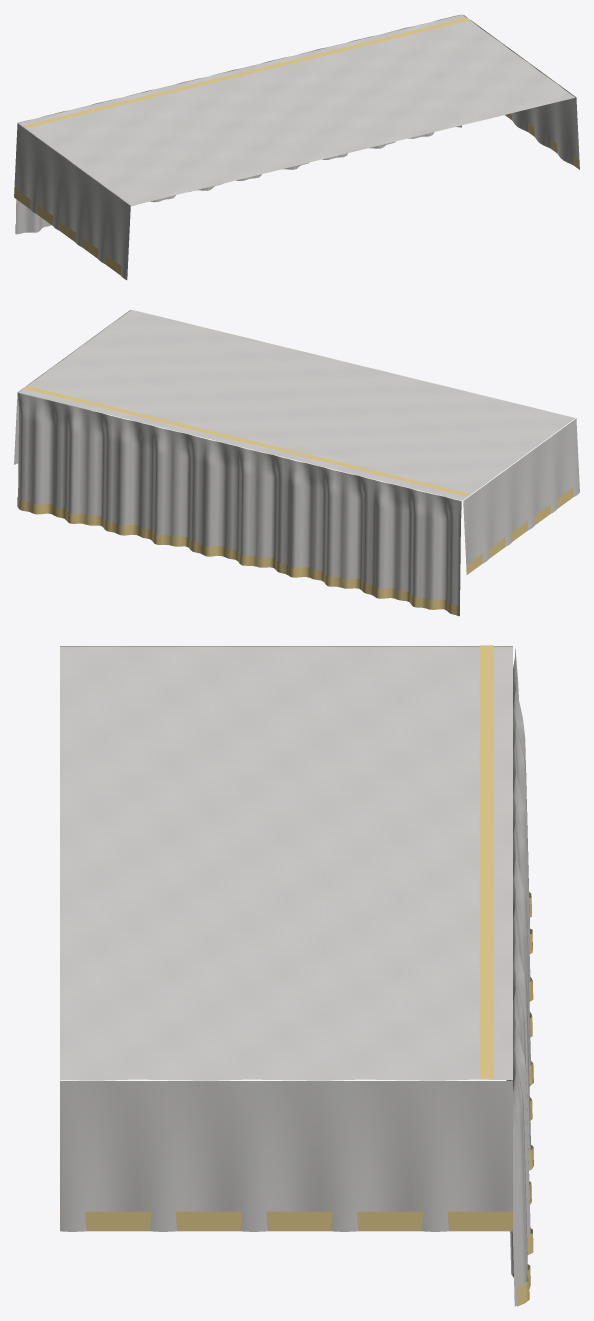
File: lotprop__lot_chapel_nave_altar_cloth.glb
The picture shows the model from 3 angles, top to bottom: view 1: azimuth 30°, elevation 25°; view 2: azimuth 150°, elevation 25°; view 3: azimuth 270°, elevation 25°; orthographic projection. The views are drawn at different scales.
Parts seen in each view (by area): view 1: cloth_linen, cloth_gold; view 2: cloth_linen, cloth_gold; view 3: cloth_linen, cloth_gold.
Part boxes in pixels (x1,y1,x2,y2): cloth_linen: (14, 14, 579, 279); cloth_gold: (14, 17, 579, 276); cloth_linen: (14, 309, 579, 615); cloth_gold: (14, 386, 579, 616); cloth_linen: (60, 646, 531, 1306); cloth_gold: (60, 645, 533, 1306).
Size of the model in its own units: 2.2 by 0.5275 by 0.9936.
